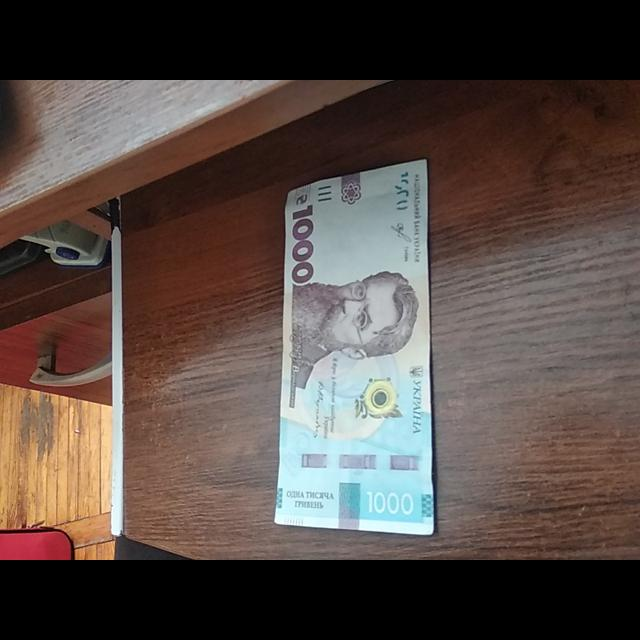1000uah: (277, 182, 441, 526)
